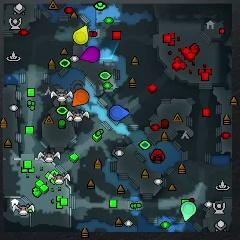p1: (109, 104, 129, 121)
p2: (181, 201, 196, 221)
p3: (80, 46, 99, 63)
p4: (73, 25, 88, 45)
p5: (72, 89, 90, 107)
